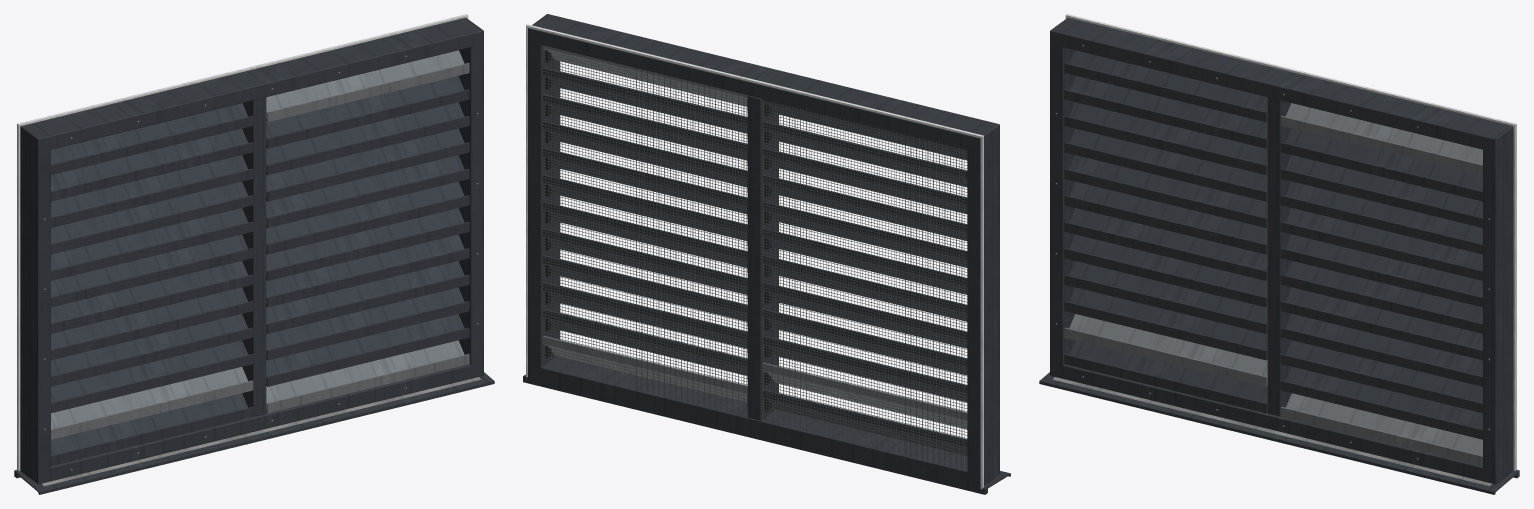
The model's file is wall_louvre.glb.
3 views of the same model, side by side, from view 1: azimuth 30°, elevation 25°; view 2: azimuth 150°, elevation 25°; view 3: azimuth 330°, elevation 25° (orthographic).
Parts seen in each view (by area): view 1: part_frame_LOD0, part_blade_19_LOD0, part_blade_17_LOD0, part_blade_18_LOD0, part_blade_21_LOD0, part_blade_13_LOD0, part_blade_15_LOD0, part_blade_16_LOD0, part_blade_20_LOD0, part_blade_22_LOD0, part_blade_23_LOD0, part_blade_14_LOD0 (+13 smaller); view 2: part_screen_LOD0, part_frame_LOD0, part_blade_3_LOD0, part_blade_9_LOD0, part_blade_10_LOD0, part_blade_14_LOD0, part_blade_2_LOD0, part_blade_11_LOD0, part_blade_15_LOD0, part_blade_7_LOD0, part_blade_8_LOD0, part_blade_21_LOD0 (+14 smaller); view 3: part_frame_LOD0, part_blade_7_LOD0, part_blade_5_LOD0, part_blade_6_LOD0, part_blade_9_LOD0, part_blade_1_LOD0, part_blade_3_LOD0, part_blade_4_LOD0, part_blade_8_LOD0, part_blade_10_LOD0, part_blade_11_LOD0, part_blade_2_LOD0 (+13 smaller).
Part boxes in pixels (box(x1,y1,x2,y2)): part_frame_LOD0: box(14, 14, 494, 494); part_blade_19_LOD0: box(266, 181, 469, 254); part_blade_17_LOD0: box(266, 234, 469, 307); part_blade_18_LOD0: box(266, 208, 469, 280); part_blade_21_LOD0: box(266, 128, 469, 201); part_blade_13_LOD0: box(266, 340, 469, 413); part_blade_15_LOD0: box(266, 287, 469, 360); part_blade_16_LOD0: box(266, 261, 469, 333); part_blade_20_LOD0: box(266, 155, 469, 227); part_blade_22_LOD0: box(266, 102, 469, 175); part_blade_23_LOD0: box(266, 76, 469, 148); part_blade_14_LOD0: box(266, 314, 469, 386); part_screen_LOD0: box(542, 45, 967, 470); part_frame_LOD0: box(523, 14, 1010, 494); part_blade_3_LOD0: box(762, 336, 967, 402); part_blade_9_LOD0: box(762, 174, 967, 240); part_blade_10_LOD0: box(762, 148, 967, 214); part_blade_14_LOD0: box(543, 309, 747, 379); part_blade_2_LOD0: box(762, 362, 967, 428); part_blade_11_LOD0: box(762, 121, 967, 187); part_blade_15_LOD0: box(543, 282, 747, 351); part_blade_7_LOD0: box(762, 228, 967, 294); part_blade_8_LOD0: box(762, 201, 967, 267); part_blade_21_LOD0: box(543, 121, 747, 191); part_frame_LOD0: box(1039, 14, 1519, 494); part_blade_7_LOD0: box(1064, 181, 1267, 254); part_blade_5_LOD0: box(1064, 234, 1267, 307); part_blade_6_LOD0: box(1064, 208, 1267, 280); part_blade_9_LOD0: box(1064, 128, 1267, 201); part_blade_1_LOD0: box(1064, 340, 1267, 413); part_blade_3_LOD0: box(1064, 287, 1267, 360); part_blade_4_LOD0: box(1064, 261, 1267, 333); part_blade_8_LOD0: box(1064, 155, 1267, 227); part_blade_10_LOD0: box(1064, 102, 1267, 175); part_blade_11_LOD0: box(1064, 76, 1267, 148); part_blade_2_LOD0: box(1064, 314, 1267, 386).
Size of what is drawn, in the model's own units: 2.04 by 1.51 by 0.196.
Materials: 7 (7 with a texture image).
